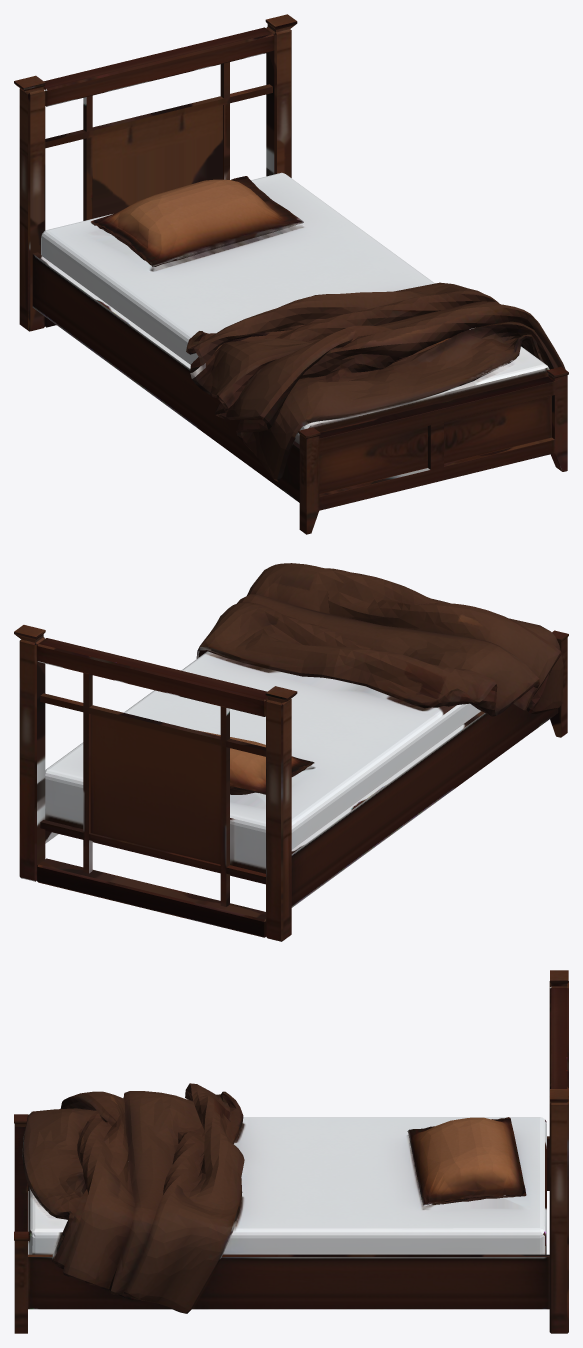
Rendered from edited_mesh.glb.
The picture shows the model from 3 angles, top to bottom: view 1: azimuth 30°, elevation 25°; view 2: azimuth 150°, elevation 25°; view 3: azimuth 270°, elevation 25°; orthographic projection. The views are drawn at different scales.
Parts seen in each view (by area): view 1: solid_001_wire; view 2: solid_001_wire; view 3: solid_001_wire.
Part boxes in pixels (bbox=[...]): solid_001_wire: bbox=[14, 14, 568, 534]; solid_001_wire: bbox=[14, 563, 568, 941]; solid_001_wire: bbox=[14, 970, 568, 1333].
Size of the model in its own units: 1.29 by 0.9447 by 2.
1 material, 1 textured.
